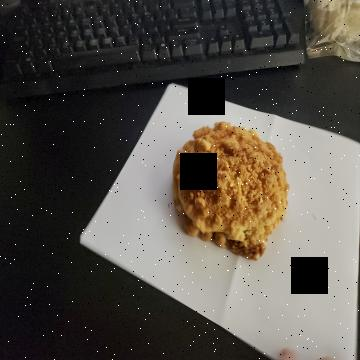soboru_bread: (174, 120, 290, 260)
